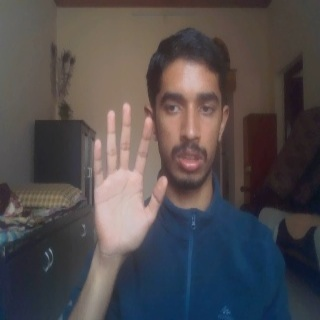Face: (144, 25, 232, 194)
Hello: (91, 100, 170, 263)
